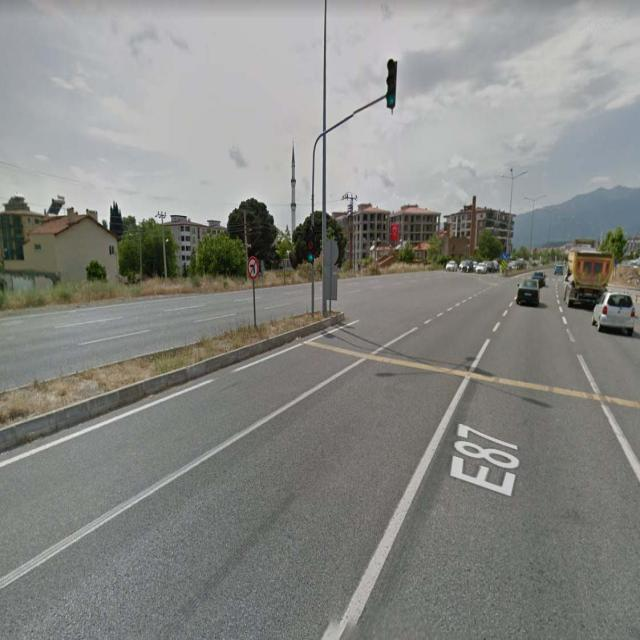soladonulmez: (246, 257, 258, 279)
yesil: (385, 59, 397, 108), (305, 226, 314, 261)
